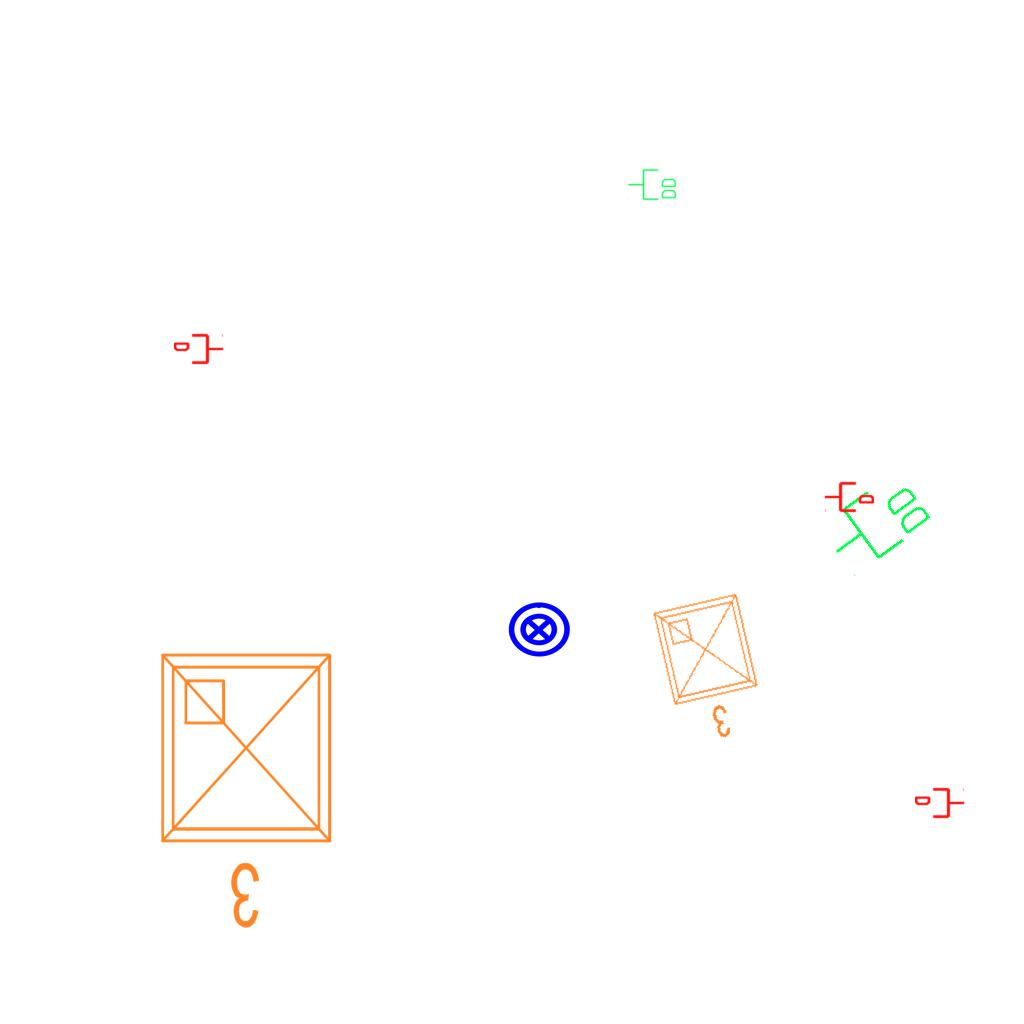Datenanschluss_einfach: (915, 786, 965, 820), (174, 332, 224, 366), (824, 480, 874, 514)
Datenanschluss_zweifach: (814, 465, 939, 582), (627, 168, 678, 202)
Einbaudownlights_LED_Konferenzraeume: (146, 639, 354, 939), (644, 584, 780, 754)
Taster_beleuchtet: (506, 597, 572, 663)
